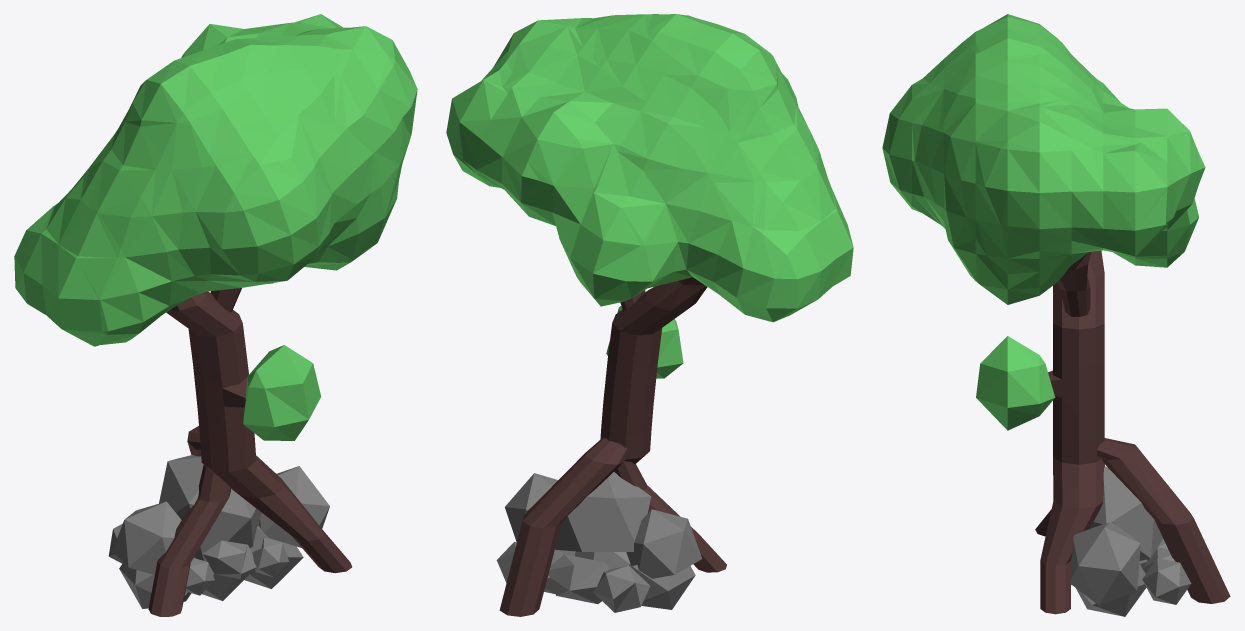
Rendered from arbol redondo.fbx.
3 views of the same model, side by side, from view 1: azimuth 30°, elevation 25°; view 2: azimuth 150°, elevation 25°; view 3: azimuth 270°, elevation 25° (orthographic). The views are drawn at different scales.
Visible parts, largest first — view 1: Metaball, Cilindro, Cilindro_2, Platónico_3_4, Platónico_2_3, Platónico_1_3, Platónico_3_3, Platónico_6, Platónico_5_3, Platónico_3, Platónico_4_3, Platónico_4; view 2: Metaball, Cilindro, Cilindro_3, Platónico_3_4, Platónico_2_3, Platónico_1, Platónico_2, Cilindro_2, Platónico_3, Platónico_1_3, Platónico_4; view 3: Metaball, Cilindro, Cilindro_3, Platónico_1_3, Platónico_3_4, Platónico, Cilindro_1, Platónico_6.
Part boxes in pixels (x1=…): Metaball: x1=14, y1=14, x2=417, y2=440; Cilindro: x1=166, y1=291, x2=352, y2=573; Cilindro_2: x1=148, y1=465, x2=230, y2=616; Platónico_3_4: x1=159, y1=455, x2=260, y2=561; Platónico_2_3: x1=112, y1=501, x2=181, y2=574; Platónico_1_3: x1=259, y1=466, x2=329, y2=547; Platónico_3_3: x1=203, y1=540, x2=256, y2=578; Platónico_6: x1=244, y1=526, x2=303, y2=588; Platónico_5_3: x1=252, y1=537, x2=289, y2=577; Platónico_3: x1=119, y1=562, x2=191, y2=608; Platónico_4_3: x1=185, y1=558, x2=214, y2=595; Platónico_4: x1=194, y1=557, x2=248, y2=600; Metaball: x1=446, y1=14, x2=853, y2=378; Cilindro: x1=600, y1=277, x2=707, y2=463; Cilindro_3: x1=499, y1=437, x2=627, y2=616; Platónico_3_4: x1=555, y1=472, x2=651, y2=551; Platónico_2_3: x1=626, y1=509, x2=702, y2=578; Platónico_1: x1=548, y1=554, x2=609, y2=604; Platónico_2: x1=593, y1=565, x2=650, y2=612; Cilindro_2: x1=614, y1=461, x2=726, y2=572; Platónico_3: x1=629, y1=564, x2=695, y2=609; Platónico_1_3: x1=505, y1=473, x2=557, y2=541; Platónico_4: x1=575, y1=551, x2=630, y2=569; Metaball: x1=882, y1=14, x2=1205, y2=430; Cilindro: x1=1040, y1=250, x2=1104, y2=614; Cilindro_3: x1=1097, y1=438, x2=1230, y2=603; Platónico_1_3: x1=1071, y1=522, x2=1140, y2=605; Platónico_3_4: x1=1089, y1=466, x2=1162, y2=560; Platónico: x1=1142, y1=558, x2=1191, y2=604; Cilindro_1: x1=1057, y1=252, x2=1090, y2=316; Platónico_6: x1=1076, y1=563, x2=1146, y2=616.
Bounding box in the file's own units: 2260 × 3436 × 1996.
